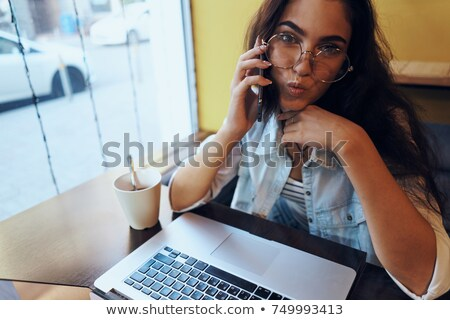phone: (236, 39, 275, 115)
talk: (221, 17, 353, 134)
